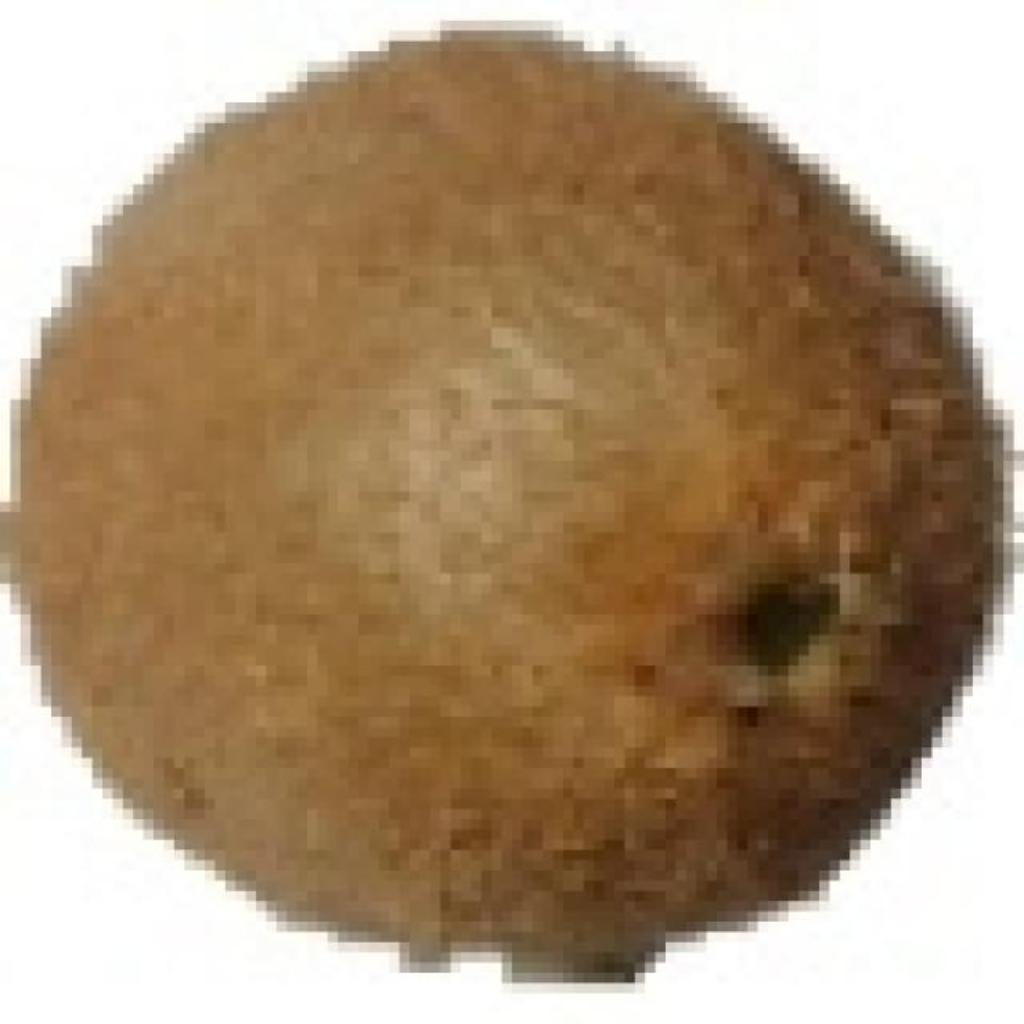kiwi: (10, 20, 983, 963)
